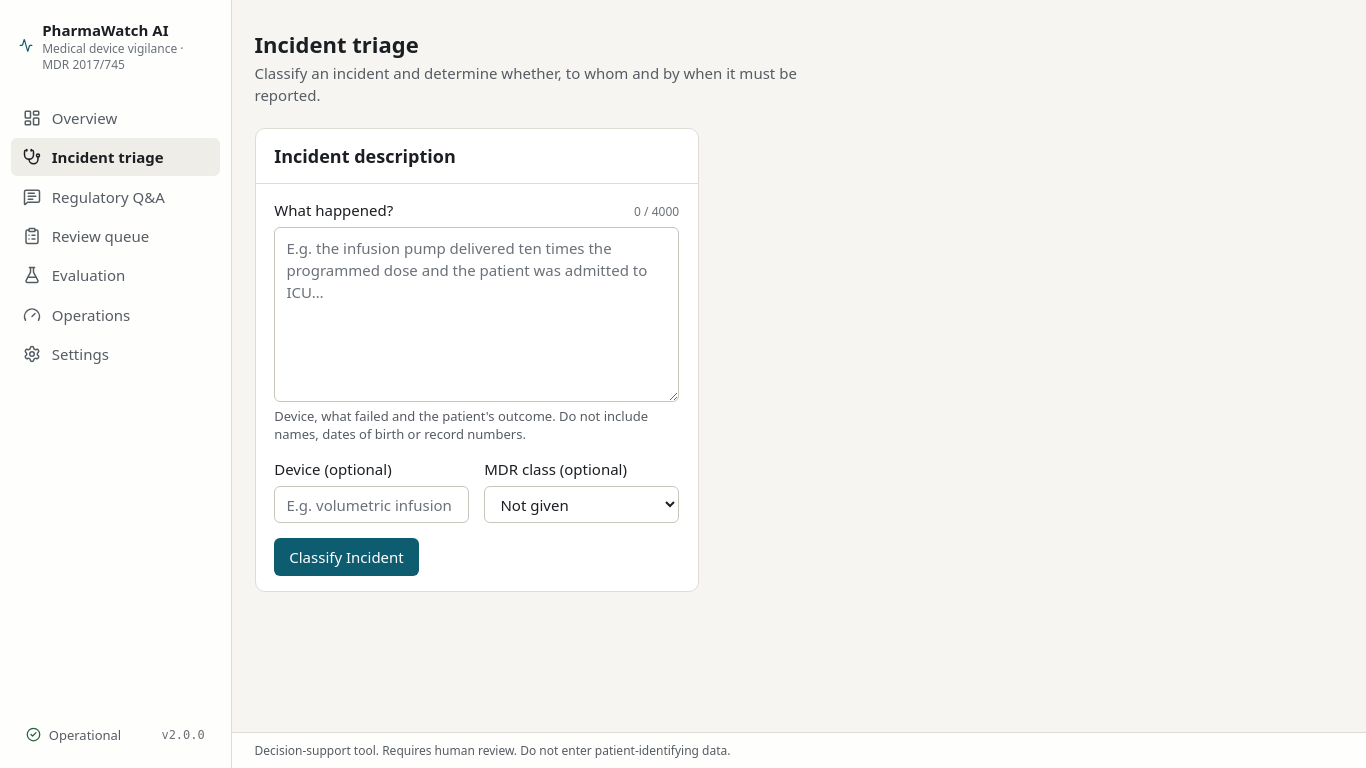
Test: triage › explains a 403 from a backend without API_KEY or DEMO_MODE
Type "The infusion pump over-infused heparin and the patient had a major bleed and was admitted to the ICU." into the text box labelled "What happened?" at [477, 314], box [274,227,679,402]
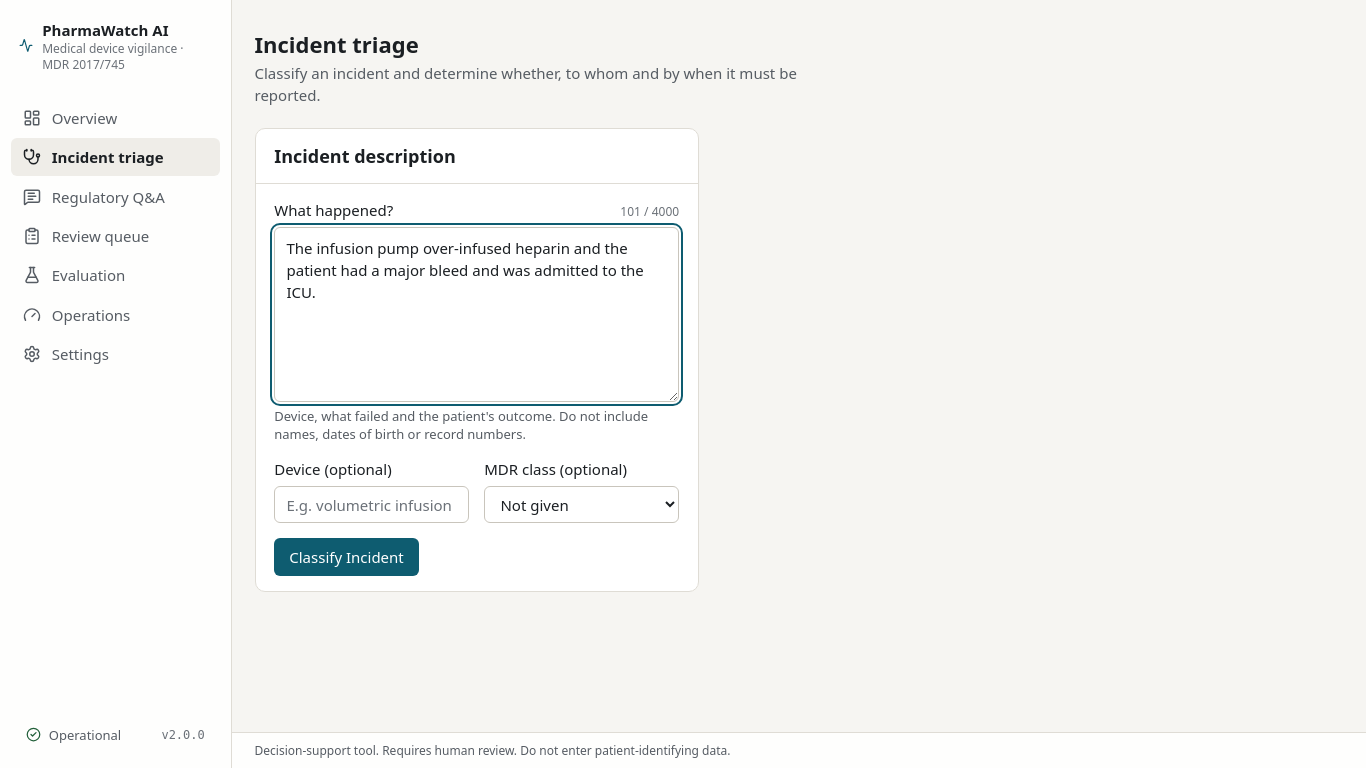
Click the button "Classify Incident" at [347, 557], box [274,538,419,576]
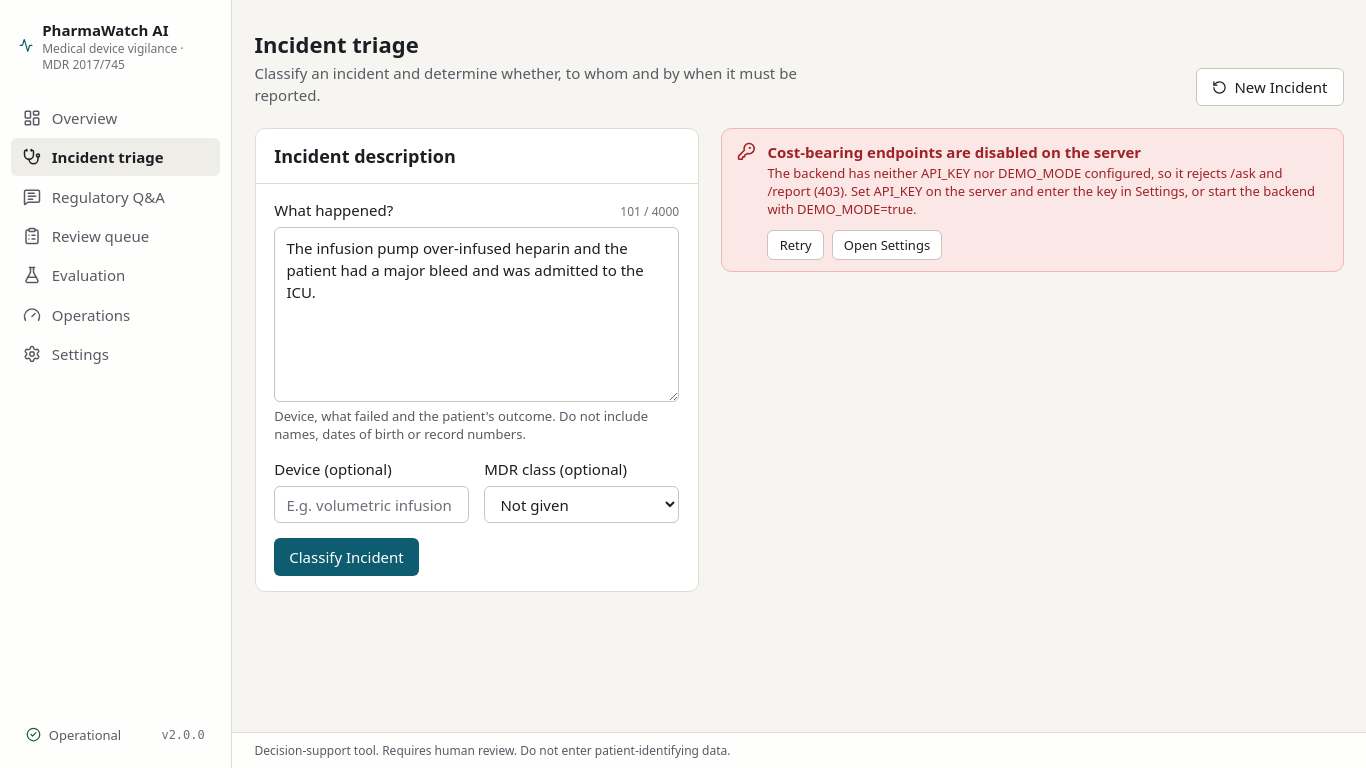
Result: the text "DEMO_MODE" is shown at [767,164,1315,218]
